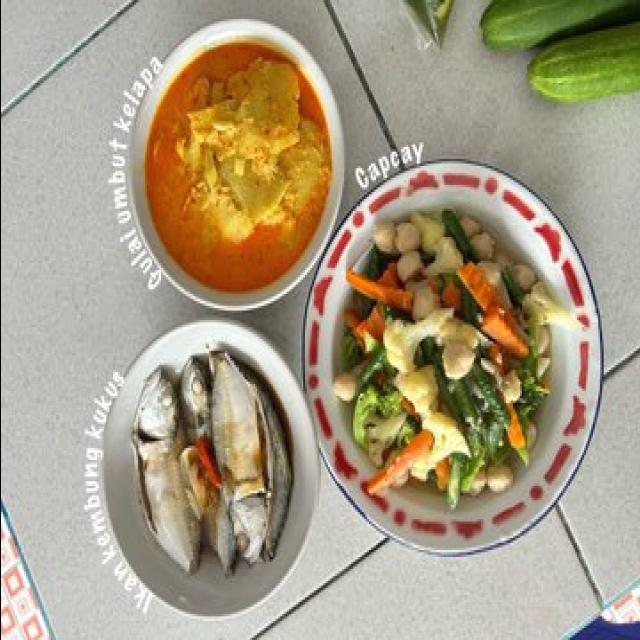capcay: (325, 199, 592, 521)
